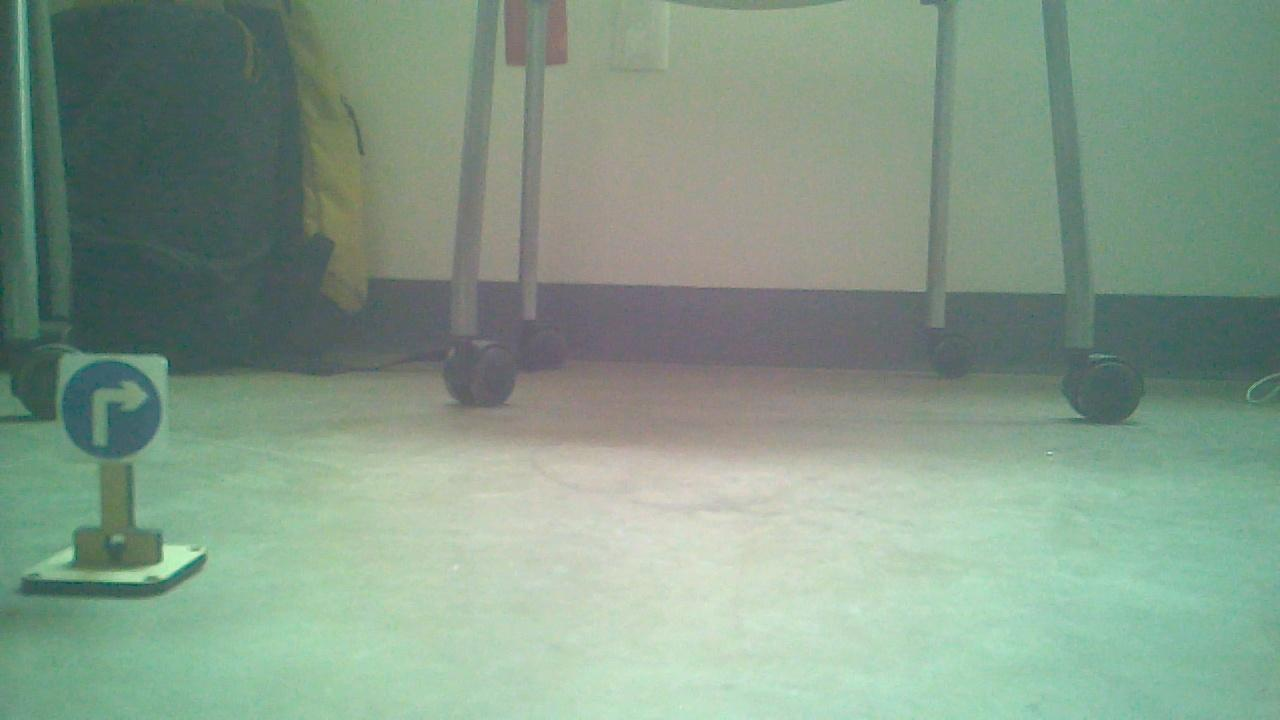turn: (61, 354, 168, 462)
